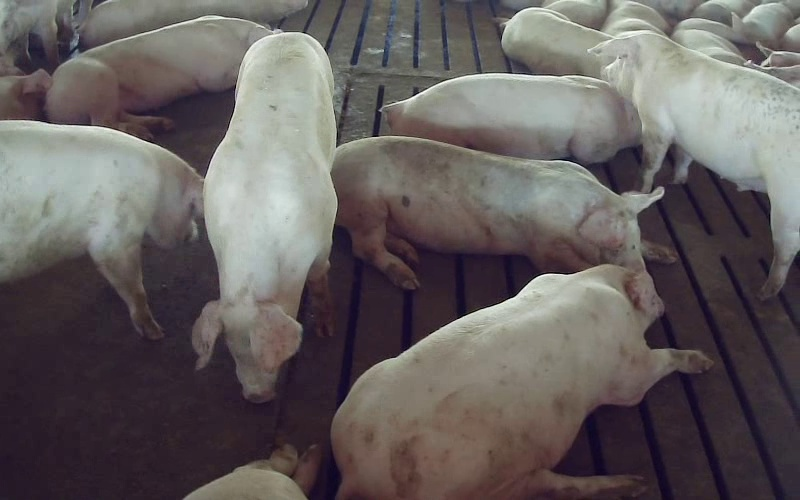pig: (332, 265, 711, 496), (590, 32, 799, 296), (193, 33, 336, 402), (332, 137, 676, 288), (46, 16, 271, 139), (382, 73, 640, 163), (79, 0, 307, 49), (501, 8, 611, 78)
